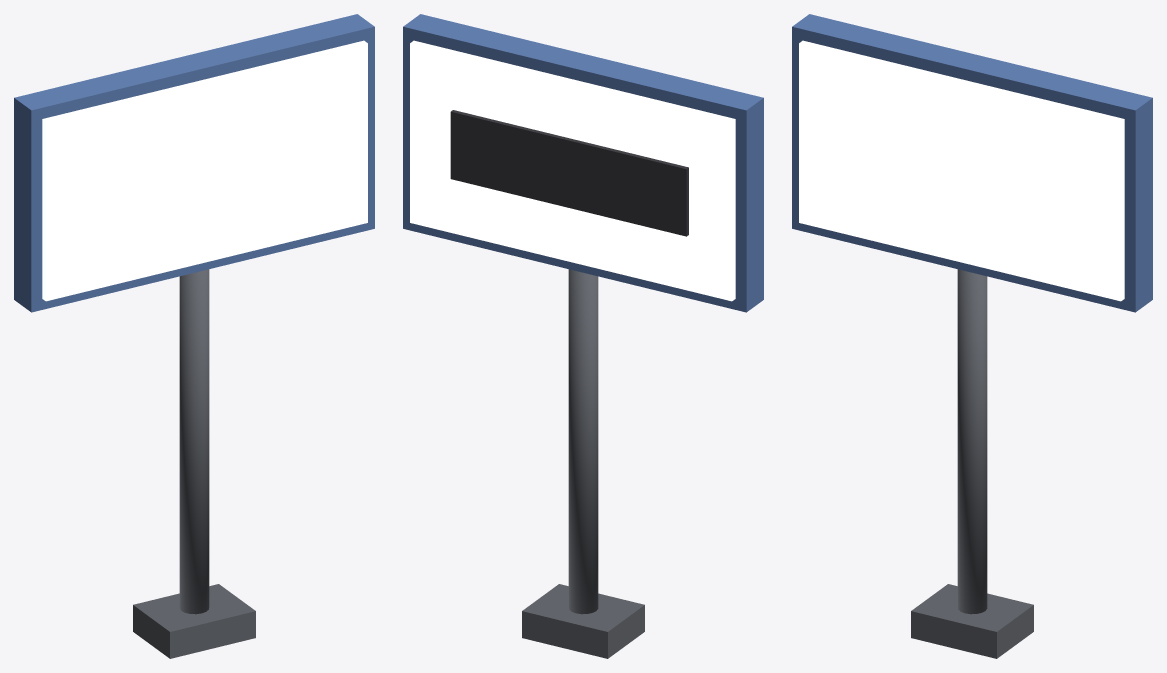
Rendered from prop_kanban_denshoku_b.glb.
3 renders of one model, left to right at view 1: azimuth 30°, elevation 25°; view 2: azimuth 150°, elevation 25°; view 3: azimuth 330°, elevation 25°, orthographic.
Parts seen in each view (by area): view 1: kanban_denshoku_b; view 2: kanban_denshoku_b; view 3: kanban_denshoku_b.
Part boxes in pixels (x1,y1,x2,y2): kanban_denshoku_b: [14, 14, 374, 658]; kanban_denshoku_b: [403, 14, 763, 658]; kanban_denshoku_b: [792, 14, 1152, 658].
Size of the model in its own units: 1.6 by 2.55 by 0.3.
